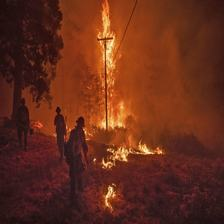fire: (86, 7, 145, 138), (94, 143, 172, 206)
